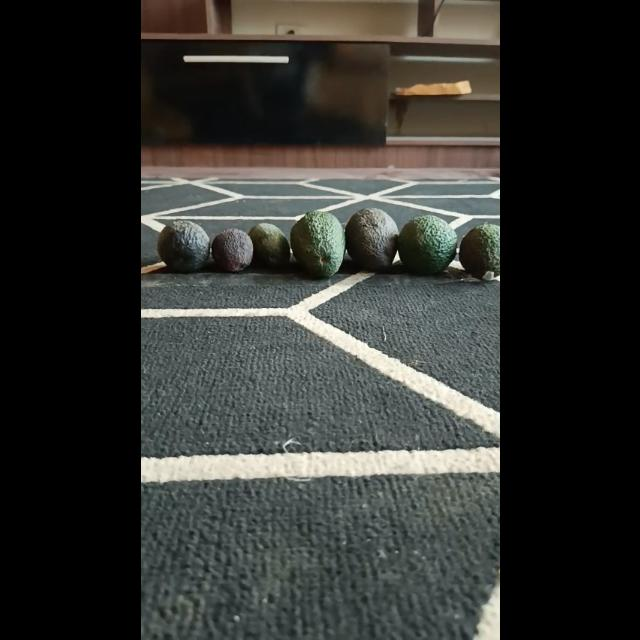Primera: (289, 210, 345, 278), (344, 206, 400, 272), (397, 215, 458, 275)
Segunda: (156, 220, 210, 274), (458, 222, 498, 280)
Tercera: (247, 222, 290, 268), (210, 228, 252, 272)
